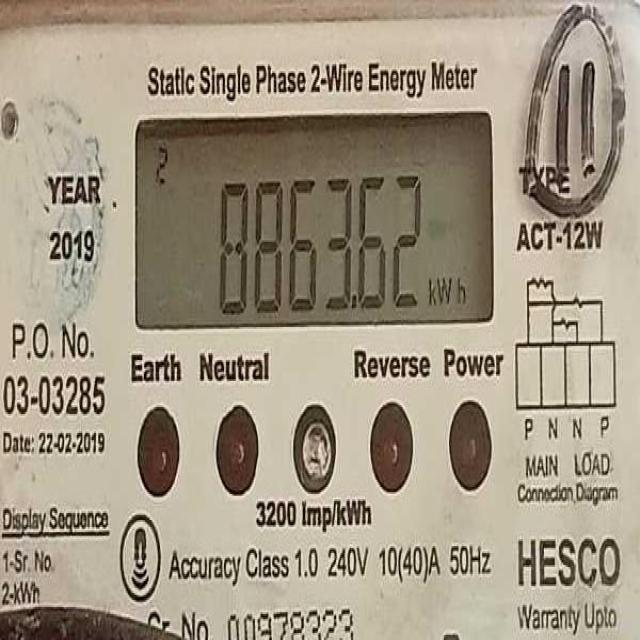2: (391, 162, 425, 313)
3: (322, 164, 352, 318)
6: (285, 165, 322, 319), (358, 166, 391, 317)
8: (249, 167, 287, 324), (216, 170, 251, 326)
Digital meter: (140, 119, 497, 320)
point: (351, 291, 361, 312)
